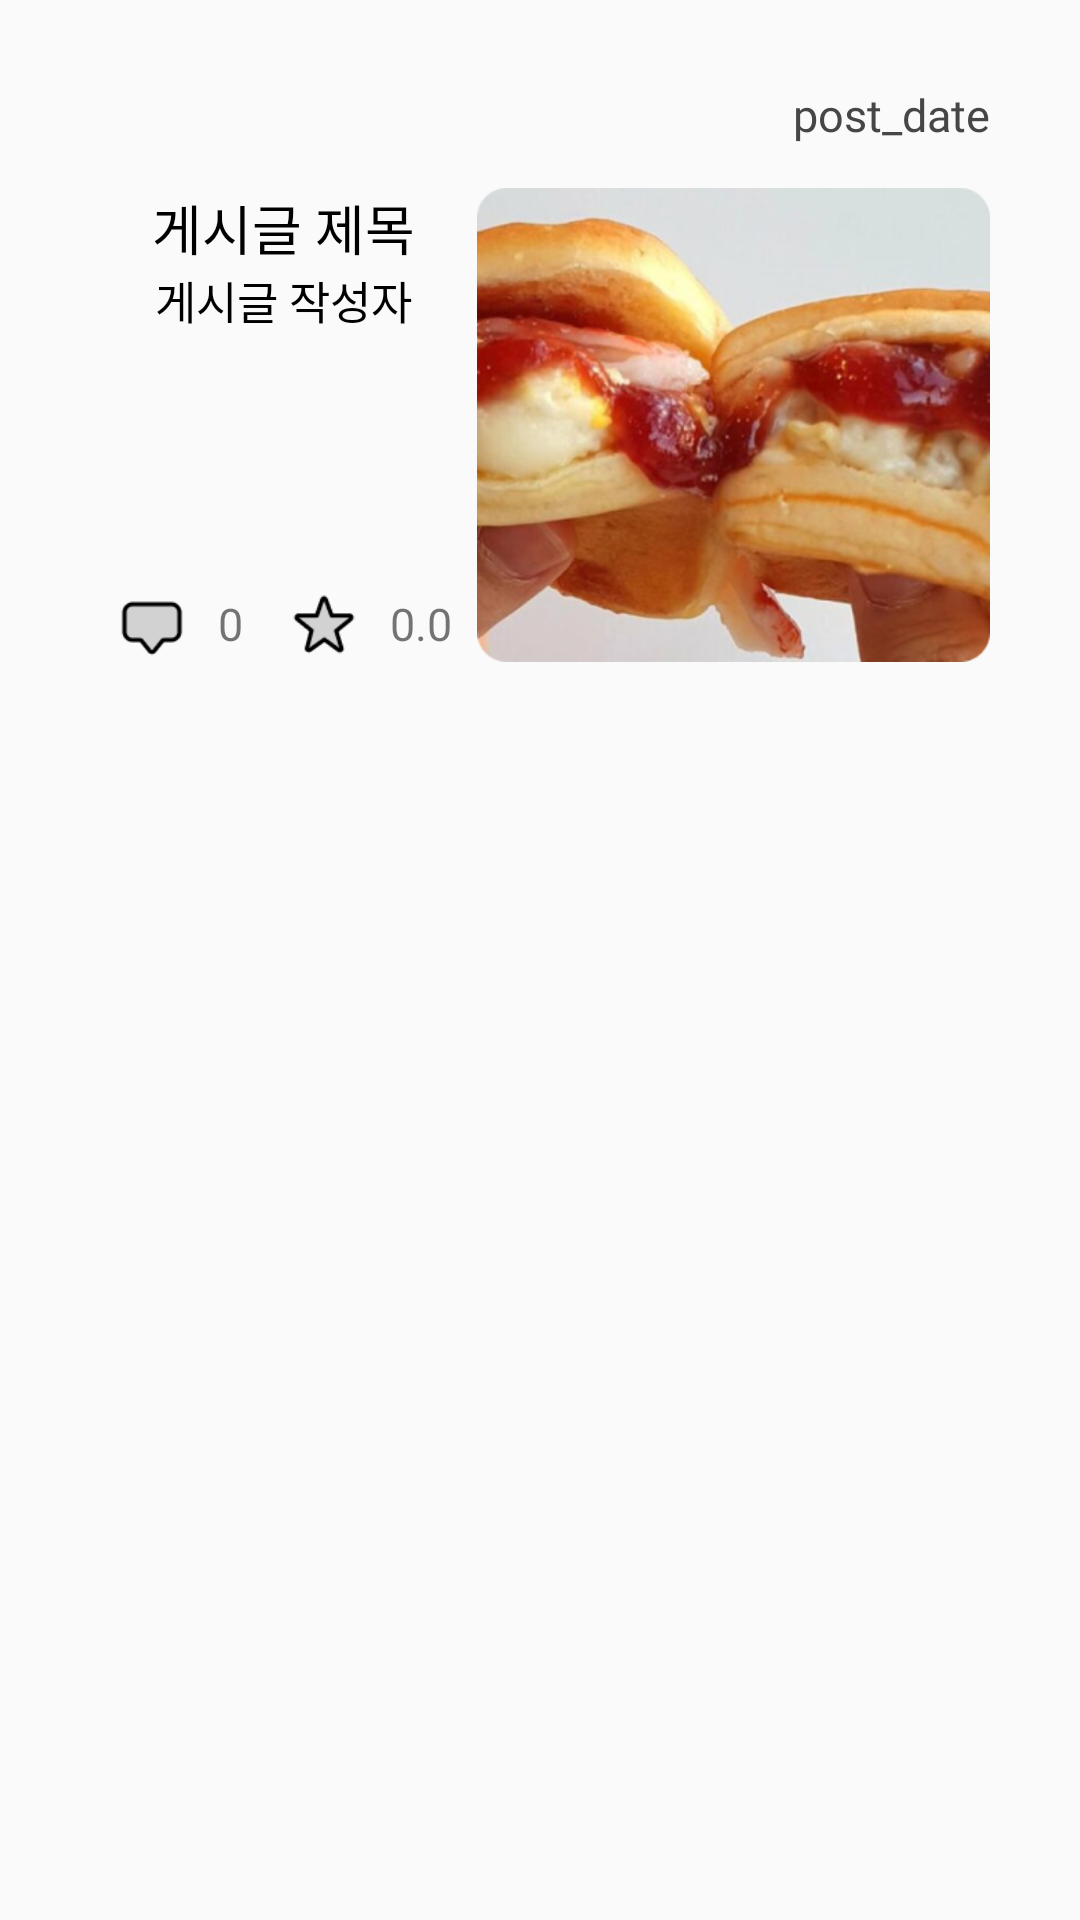

Icons on this 1080×1920 Android screen, each with the point to tap as [x,y]:
community comment: [152,628]
community rating: [324,624]
